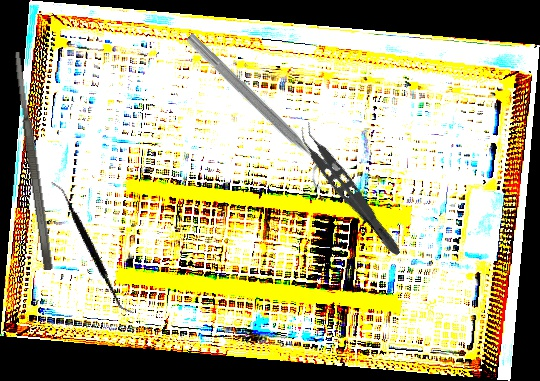Fixation Ring: (173, 28, 346, 197)
Spatula Surgical: (13, 179, 172, 316), (11, 51, 55, 271)
Tissue Forceps: (290, 119, 413, 260)
